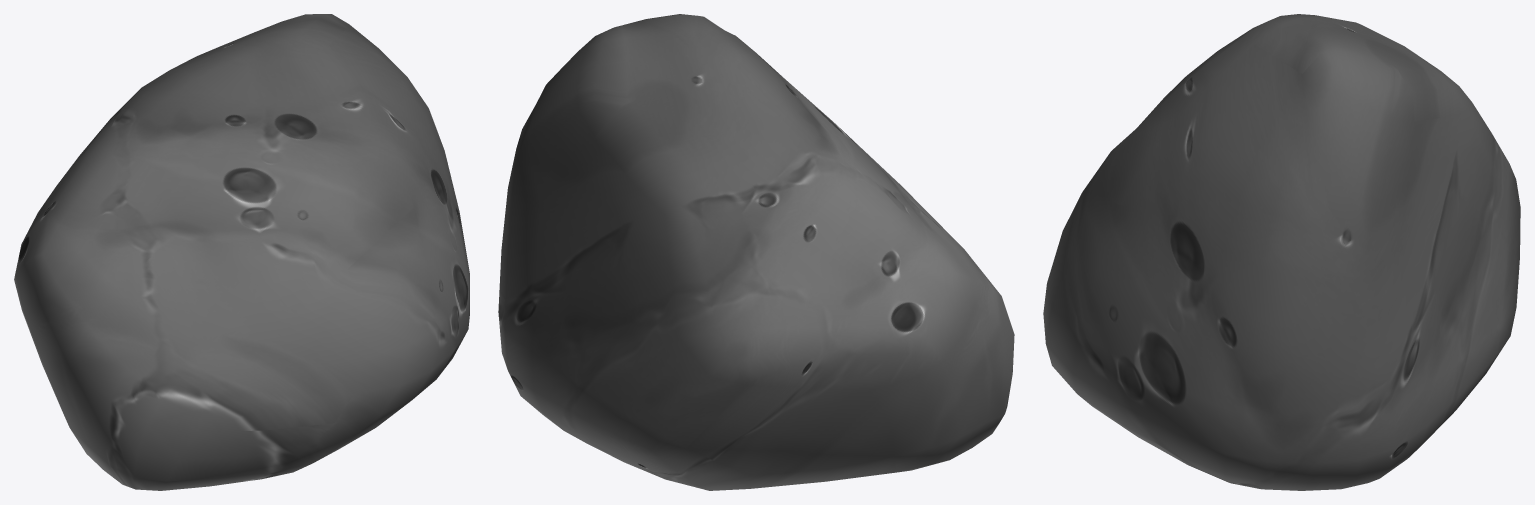
File: SM_ENV_stone_11.fbx
The picture shows the model from 3 angles, left to right: view 1: azimuth 30°, elevation 25°; view 2: azimuth 150°, elevation 25°; view 3: azimuth 270°, elevation 25°; orthographic projection. The views are drawn at different scales.
Parts seen in each view (by area): view 1: SM_ENV_stone_11_LOD0; view 2: SM_ENV_stone_11_LOD0; view 3: SM_ENV_stone_11_LOD0.
Part boxes in pixels (x1,y1,x2,y2): SM_ENV_stone_11_LOD0: (14, 14, 469, 490); SM_ENV_stone_11_LOD0: (498, 14, 1014, 490); SM_ENV_stone_11_LOD0: (1043, 14, 1520, 490).
Size of what is drawn, in the model's own units: 405 by 351 by 351.
